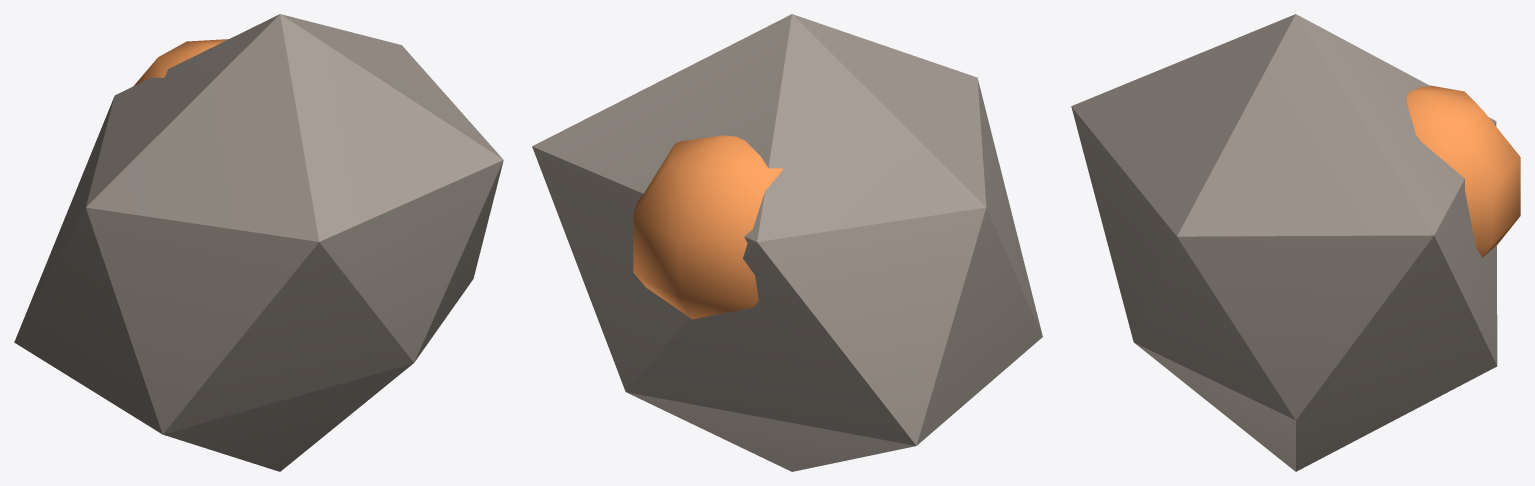
Rendered from CinderGrenade2.fbx.
The picture shows the model from 3 angles, left to right: view 1: azimuth 30°, elevation 25°; view 2: azimuth 150°, elevation 25°; view 3: azimuth 270°, elevation 25°; orthographic projection.
Parts seen in each view (by area): view 1: cinder2; view 2: cinder2; view 3: cinder2.
Boxes of the visible parts, x1,y1,x2,y2 form: cinder2: (14, 14, 503, 471); cinder2: (532, 14, 1042, 471); cinder2: (1071, 14, 1520, 471).
Size of the model in its own units: 0.2146 by 0.2417 by 0.215.
